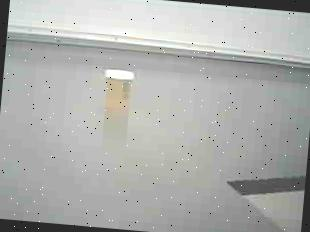Bottle B: (96, 63, 142, 121)
